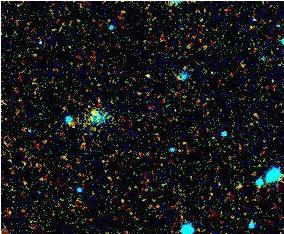star: (131, 63, 161, 93)
